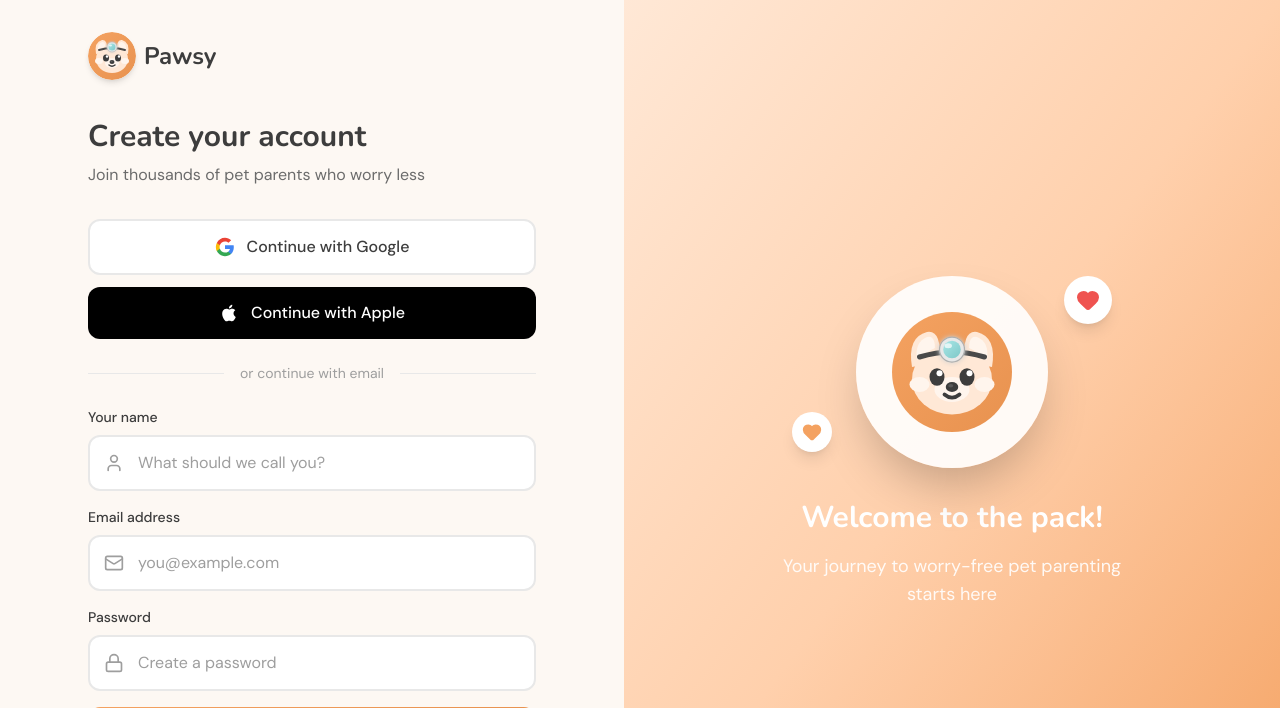
Test case: SignUp › shows error when only name provided
Type "Test User" into the field labelled "Your name" at (312, 463), box [88,435,536,491]
(page scrolled)
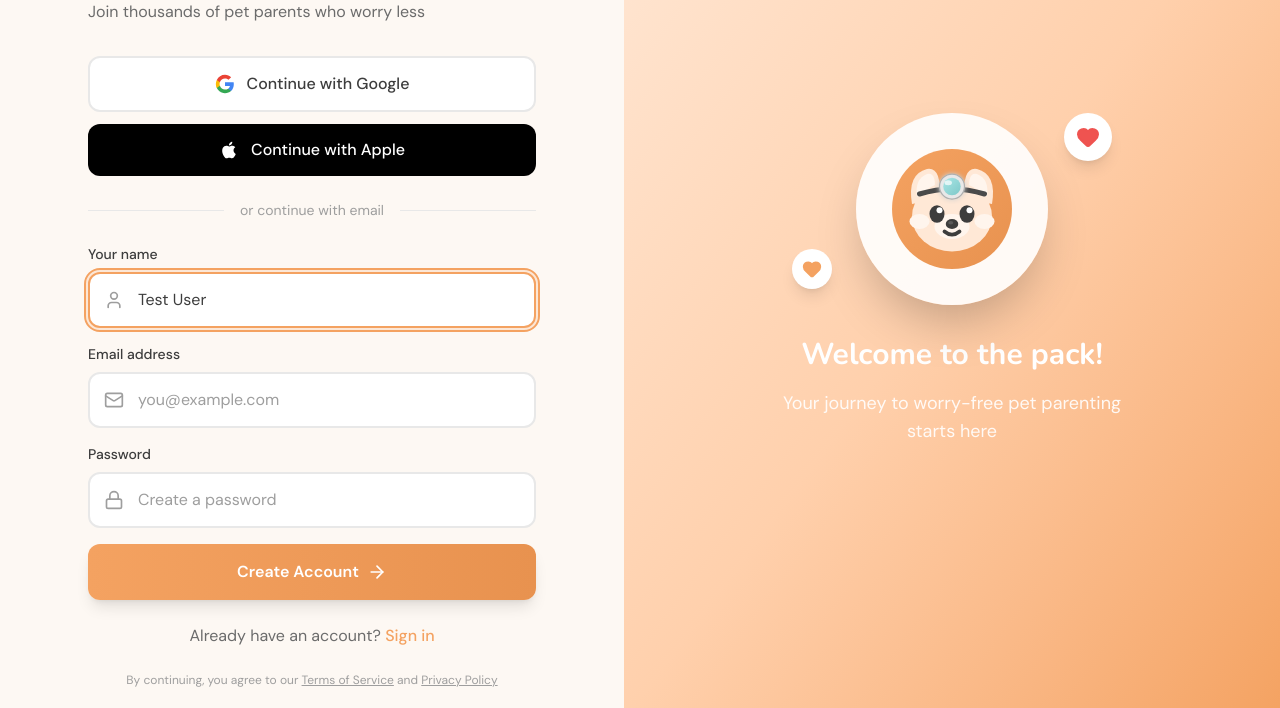
Click the button "Create Account" at (312, 572), box [88,544,536,600]
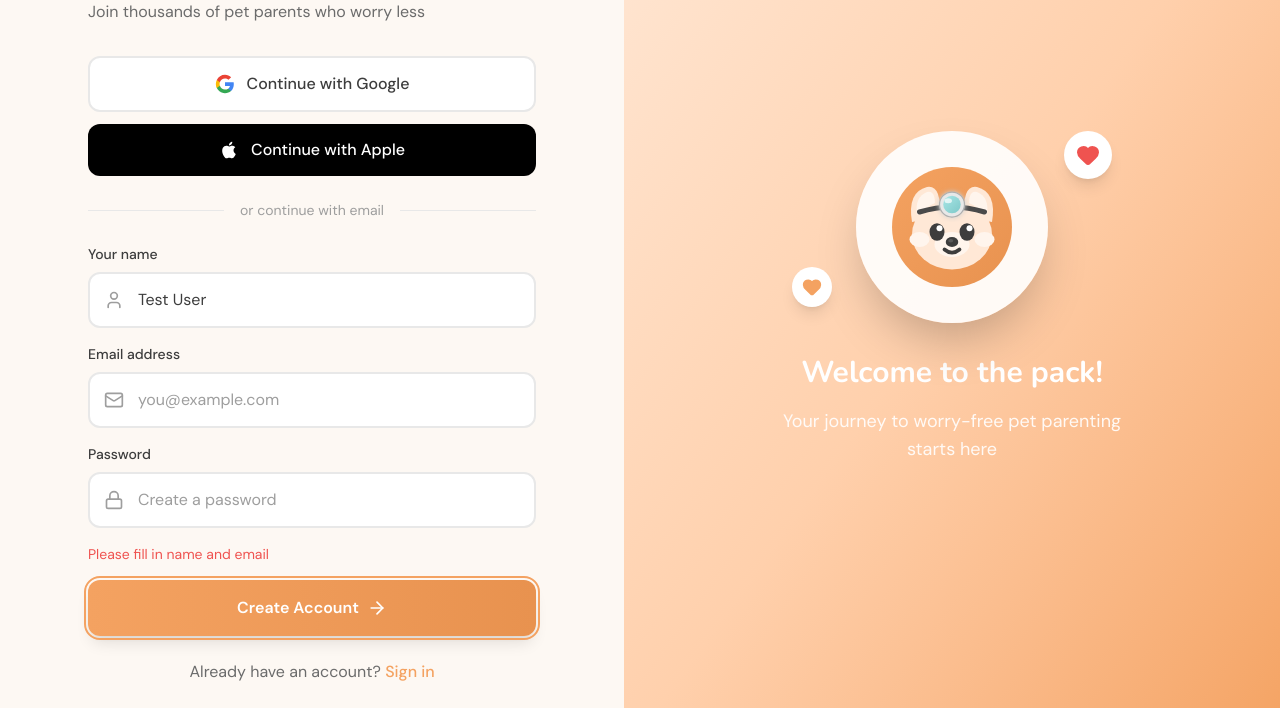
expect the text "Please fill in name and email" is shown: met, box [88,545,269,563]
